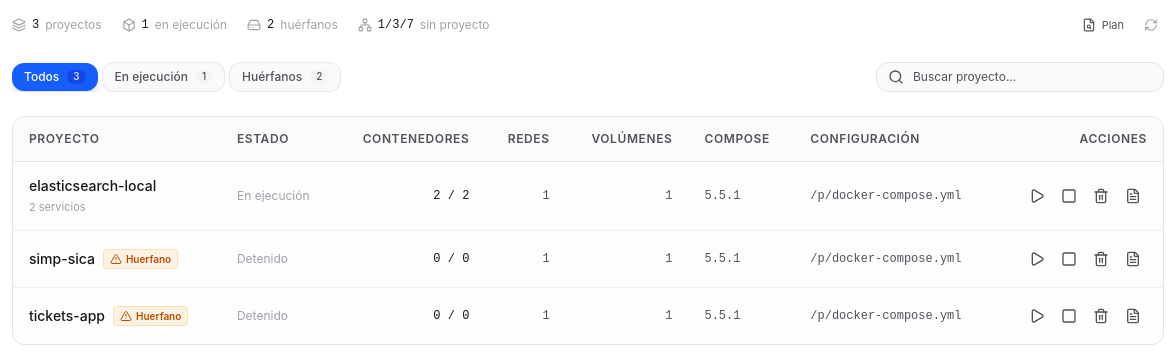
Test case: ProjectsView › acota la tabla con los filtros
Click the button "Huérfanos 2".
click(285, 77)  # box [229, 62, 341, 92]
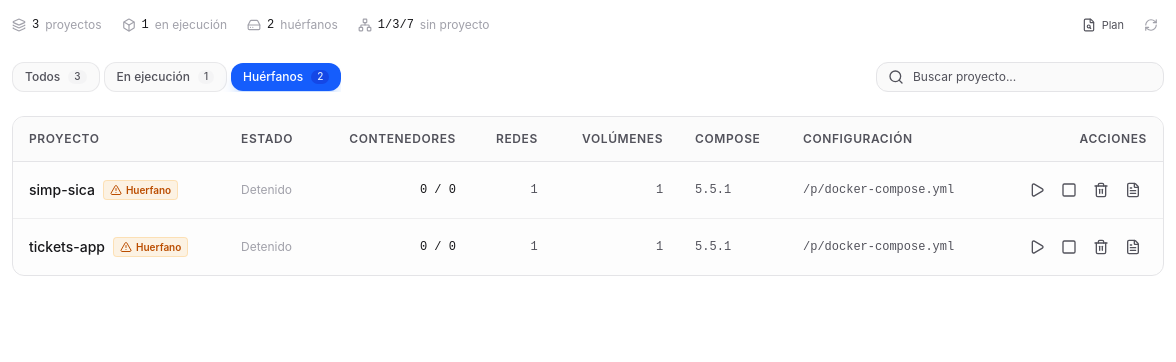
Expected: the text "simp-sica" is shown, [29, 180, 95, 200]
Now the text "elasticsearch-local" is gone
